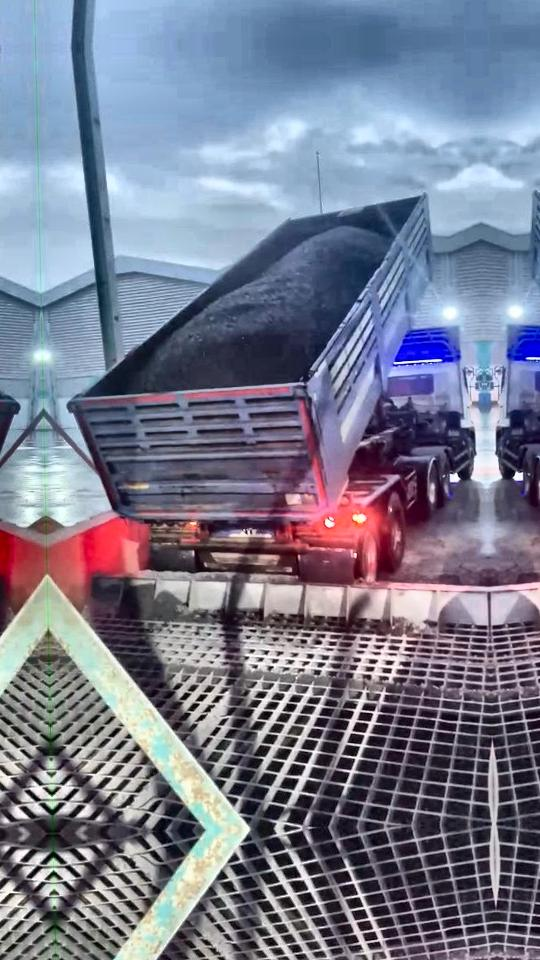gravel: (128, 226, 391, 393)
